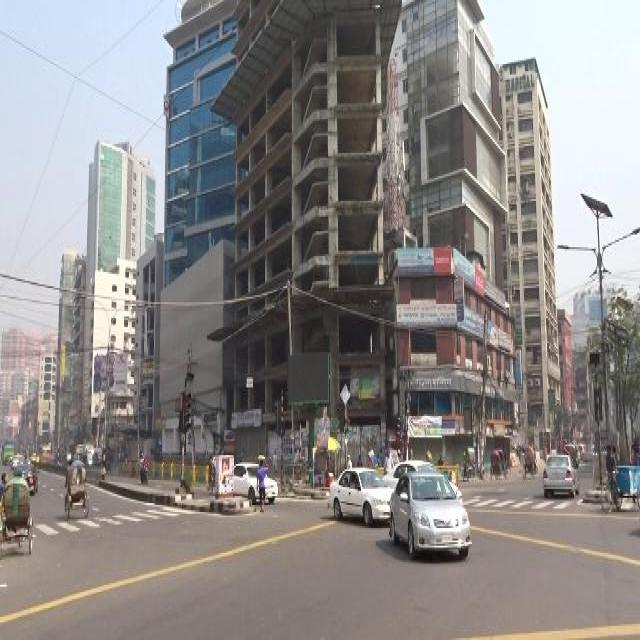bus: (0, 439, 14, 462)
car: (388, 468, 474, 556), (381, 457, 463, 510), (326, 464, 395, 526), (232, 459, 279, 505), (540, 452, 579, 499), (11, 460, 38, 492)
motorcycle: (596, 443, 637, 517), (1, 471, 34, 551), (64, 457, 90, 524), (461, 442, 486, 482), (522, 442, 538, 477), (488, 448, 501, 482), (138, 449, 149, 484), (105, 446, 111, 473)
